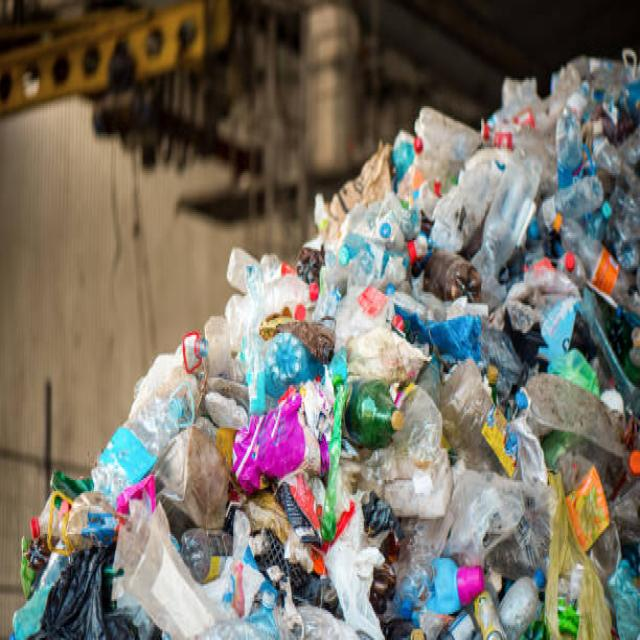plastic: (227, 273, 507, 549), (504, 89, 628, 268), (71, 478, 198, 618)
